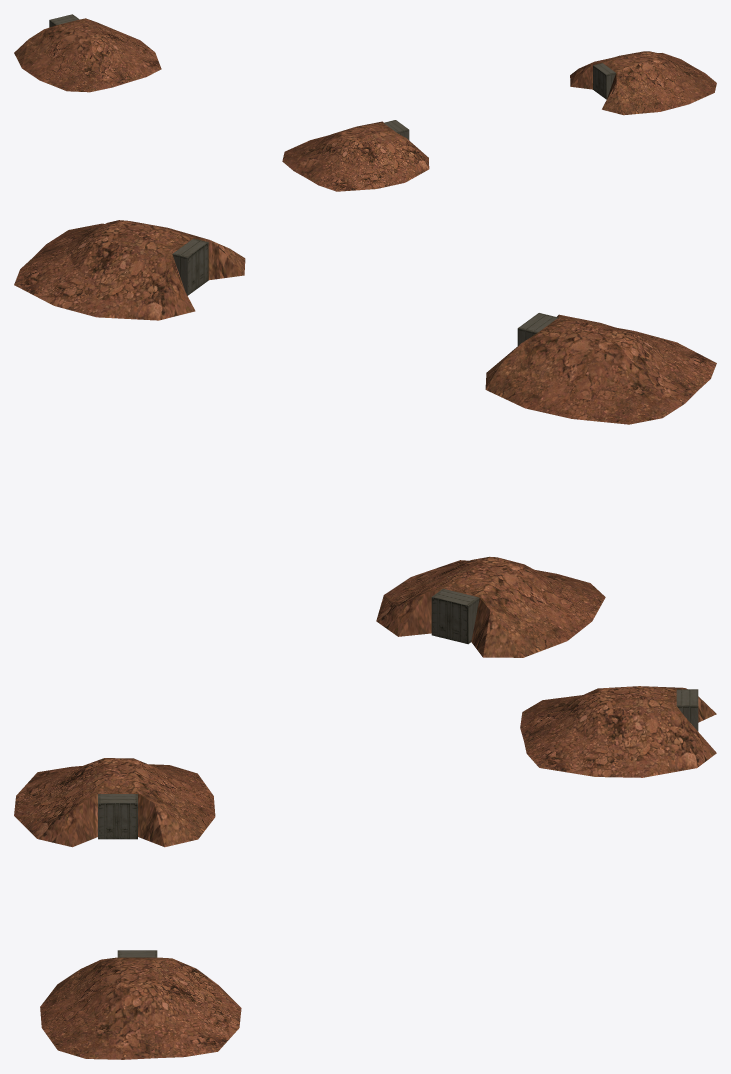
The model's file is des_quarstmound_02.obj.
The picture shows the model from 3 angles, top to bottom: view 1: azimuth 30°, elevation 25°; view 2: azimuth 150°, elevation 25°; view 3: azimuth 270°, elevation 25°; orthographic projection. The views are drawn at different scales.
Visible parts, largest first — view 1: des_quarstmound_02; view 2: des_quarstmound_02; view 3: des_quarstmound_02.
Part boxes in pixels (x1,y1,x2,y2): des_quarstmound_02: (14, 14, 716, 191); des_quarstmound_02: (14, 220, 716, 657); des_quarstmound_02: (14, 686, 716, 1059).
Size of the model in its own units: 54.38 by 2.82 by 44.
Materials: 3 (3 with a texture image).
